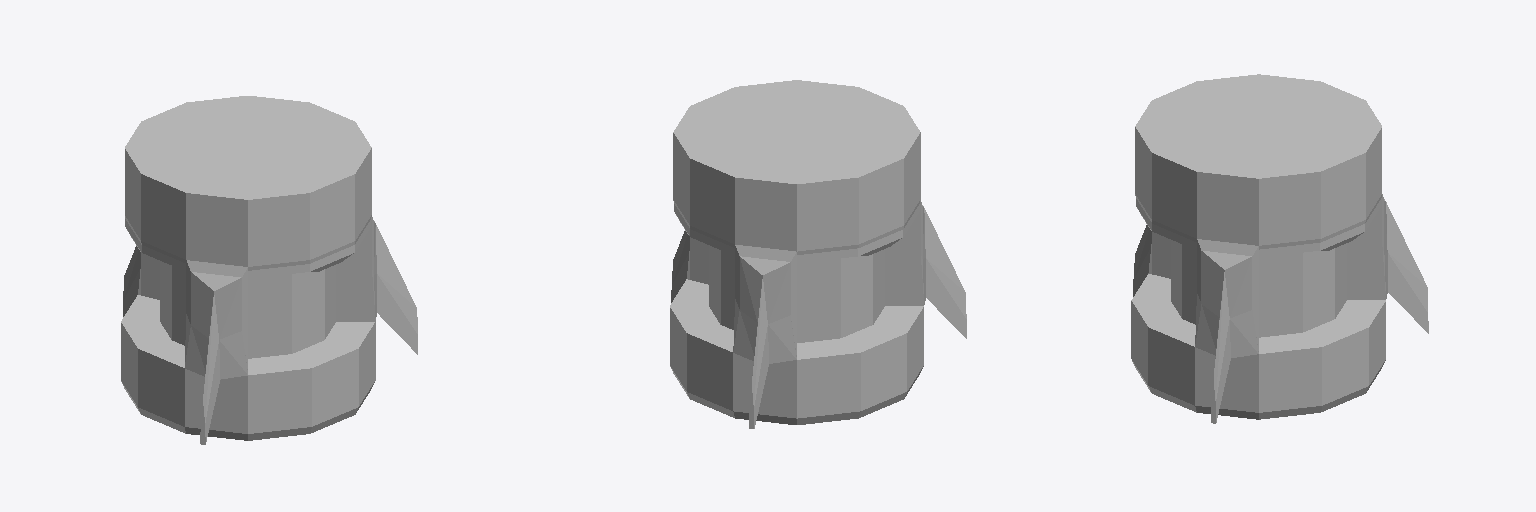
File: ModuleT3.obj
3 renders of one model, left to right at view 1: azimuth 30°, elevation 25°; view 2: azimuth 150°, elevation 25°; view 3: azimuth 270°, elevation 25°, orthographic.
Parts seen in each view (by area): view 1: Cylinder; view 2: Cylinder; view 3: Cylinder.
Boxes of the visible parts, x1=… form: Cylinder: x1=121, y1=96, x2=417, y2=444; Cylinder: x1=670, y1=80, x2=966, y2=428; Cylinder: x1=1131, y1=74, x2=1428, y2=423.
Size of the model in its own units: 3.36 by 3.01 by 3.36.